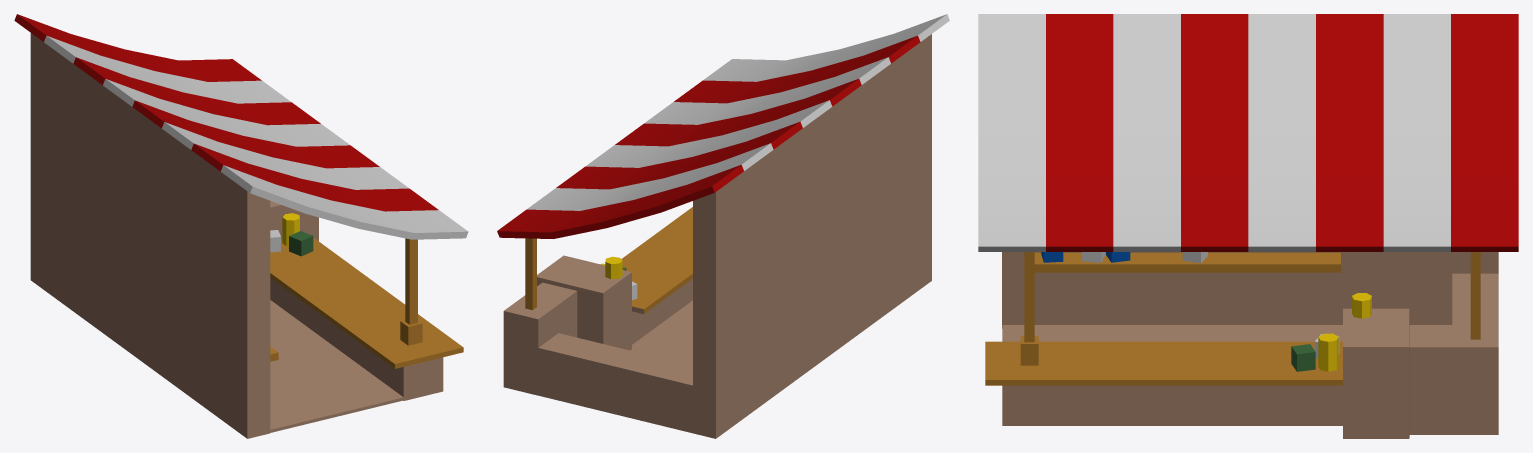
Rendered from MarketStand.fbx.
3 renders of one model, left to right at view 1: azimuth 30°, elevation 25°; view 2: azimuth 150°, elevation 25°; view 3: azimuth 270°, elevation 25°, orthographic. The views are drawn at different scales.
Visible parts, largest first — view 1: Market; view 2: Market; view 3: Market.
Boxes of the visible parts, x1=… form: Market: x1=14, y1=14, x2=468, y2=438; Market: x1=497, y1=14, x2=949, y2=438; Market: x1=978, y1=14, x2=1518, y2=438.
Size of the model in its own units: 4.43 by 4.85 by 7.93.
